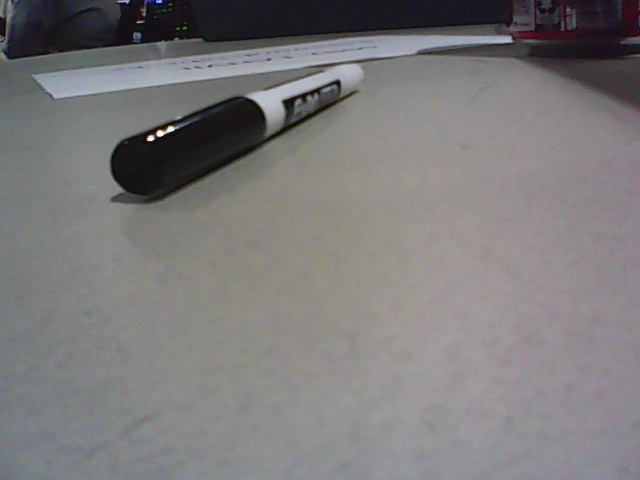marker: (110, 64, 365, 196)
